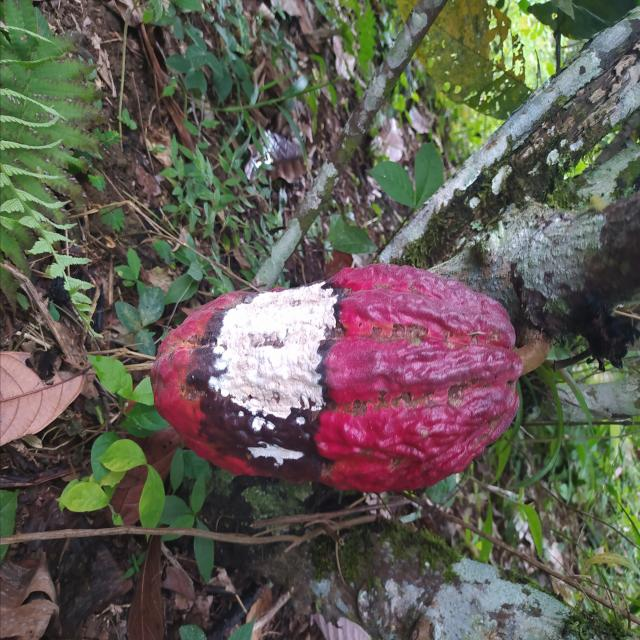Monilia: (148, 267, 522, 492)
